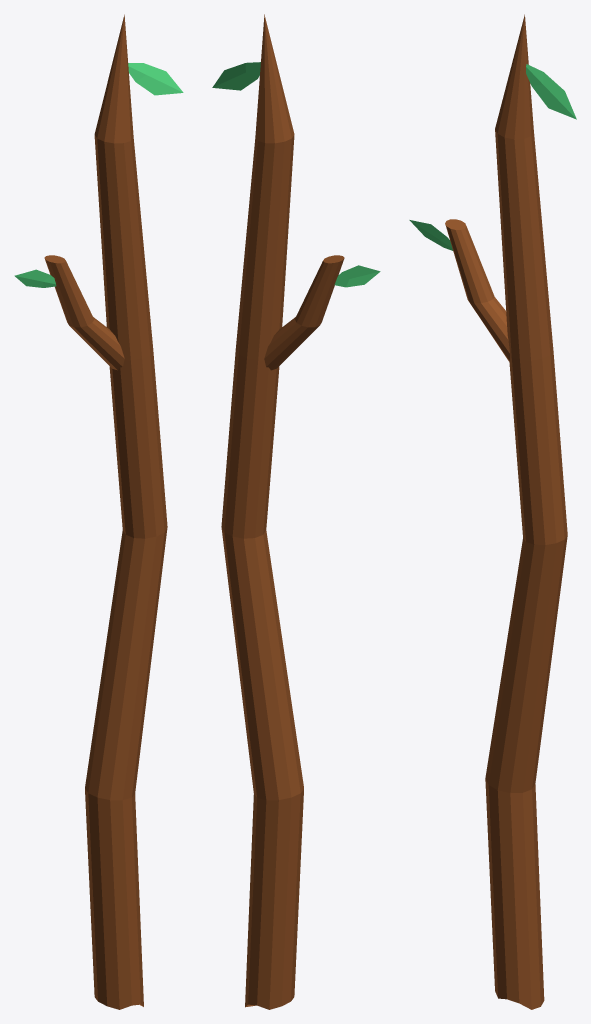
Rendered from branch.fbx.
3 views of the same model, side by side, from view 1: azimuth 30°, elevation 25°; view 2: azimuth 150°, elevation 25°; view 3: azimuth 330°, elevation 25° (orthographic).
Visible parts, largest first — view 1: Branch; view 2: Branch; view 3: Branch.
Boxes of the visible parts, <box> form: Branch: <box>14,14,183,1009</box>; Branch: <box>212,14,380,1009</box>; Branch: <box>409,14,576,1009</box>.
Size of the model in its own units: 15.42 by 86.53 by 4.
